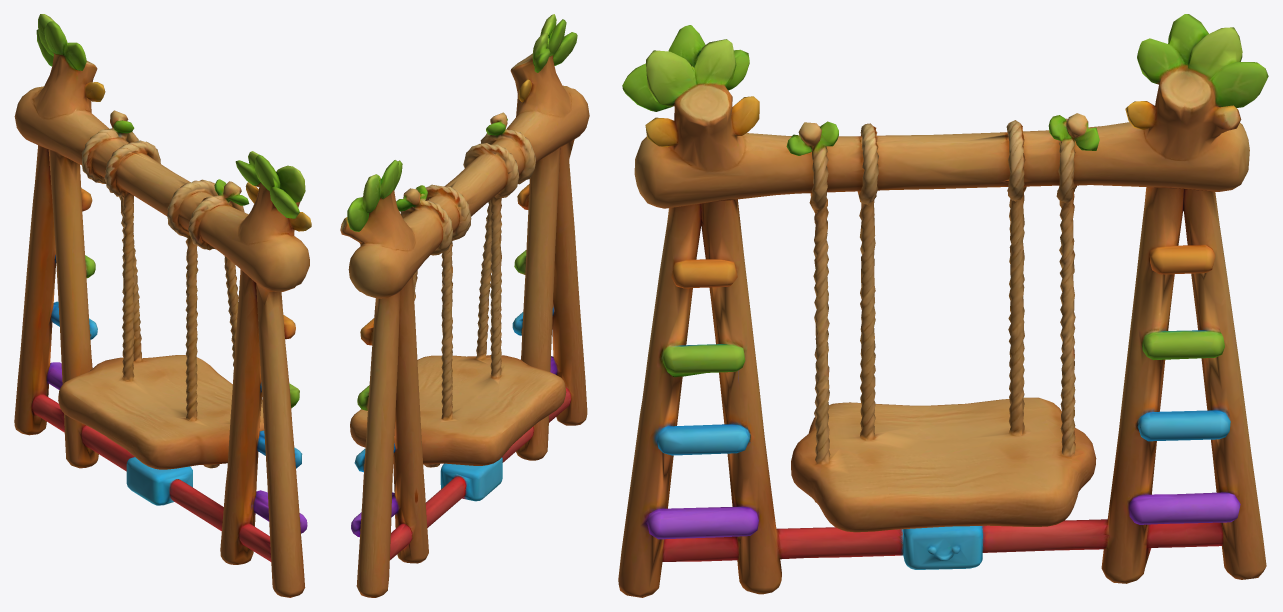
File: swing.glb
3 views of the same model, side by side, from view 1: azimuth 30°, elevation 25°; view 2: azimuth 150°, elevation 25°; view 3: azimuth 270°, elevation 25° (orthographic). The views are drawn at different scales.
Visible parts, largest first — view 1: tripo_node_83718e6c-a939-4aa8-b3ec-6701372b5099; view 2: tripo_node_83718e6c-a939-4aa8-b3ec-6701372b5099; view 3: tripo_node_83718e6c-a939-4aa8-b3ec-6701372b5099.
Part boxes in pixels (<box>): tripo_node_83718e6c-a939-4aa8-b3ec-6701372b5099: <box>14,14,311,597</box>; tripo_node_83718e6c-a939-4aa8-b3ec-6701372b5099: <box>340,14,589,597</box>; tripo_node_83718e6c-a939-4aa8-b3ec-6701372b5099: <box>618,14,1268,597</box>.
Size of the model in its own units: 0.4557 by 1.2 by 1.26.
1 material, 1 textured.
